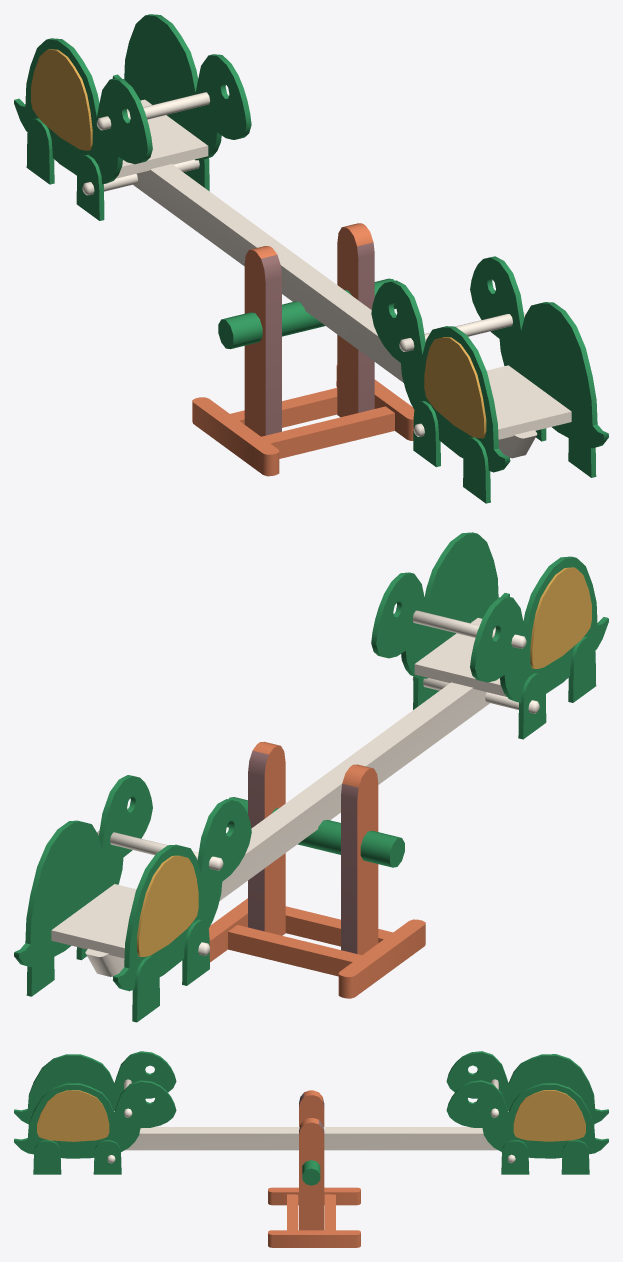
Rendered from SeeSaw_Turtle_01.fbx.
The picture shows the model from 3 angles, top to bottom: view 1: azimuth 30°, elevation 25°; view 2: azimuth 150°, elevation 25°; view 3: azimuth 270°, elevation 25°; orthographic projection. The views are drawn at different scales.
Parts seen in each view (by area): view 1: SeeSaw_Turtle_01_top, SeeSaw_Turtle_01_bottom; view 2: SeeSaw_Turtle_01_top, SeeSaw_Turtle_01_bottom; view 3: SeeSaw_Turtle_01_top, SeeSaw_Turtle_01_bottom.
Part boxes in pixels (x1,y1,x2,y2): SeeSaw_Turtle_01_top: (14,14,608,503); SeeSaw_Turtle_01_bottom: (192,223,414,476); SeeSaw_Turtle_01_top: (14,532,608,1022); SeeSaw_Turtle_01_bottom: (209,741,425,998); SeeSaw_Turtle_01_top: (14,1051,608,1174); SeeSaw_Turtle_01_bottom: (268,1090,360,1247).
Bounding box in the file's own units: 0.7842 × 1.17 × 3.98.
